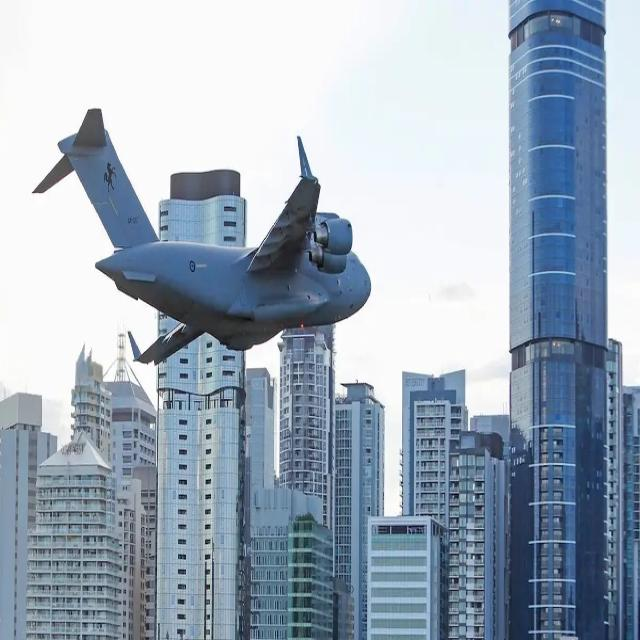MIL_Plane: (32, 70, 371, 329)
